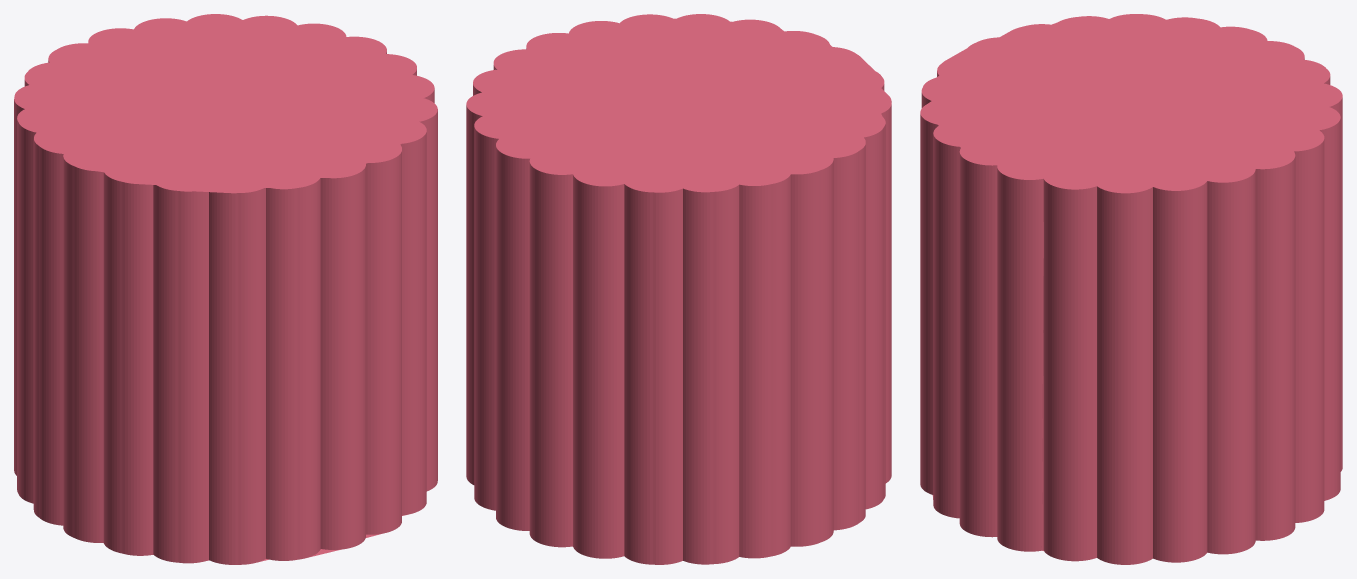
Rendered from cyliderarray2.glb.
3 renders of one model, left to right at view 1: azimuth 30°, elevation 25°; view 2: azimuth 150°, elevation 25°; view 3: azimuth 270°, elevation 25°, orthographic.
Parts seen in each view (by area): view 1: Cylinder; view 2: Cylinder; view 3: Cylinder.
Part boxes in pixels (box(x1,y1,x2,y2)): Cylinder: box(14, 14, 437, 564); Cylinder: box(466, 14, 891, 564); Cylinder: box(920, 14, 1342, 564).
Bounding box in the file's own units: 13.06 × 12.62 × 13.
